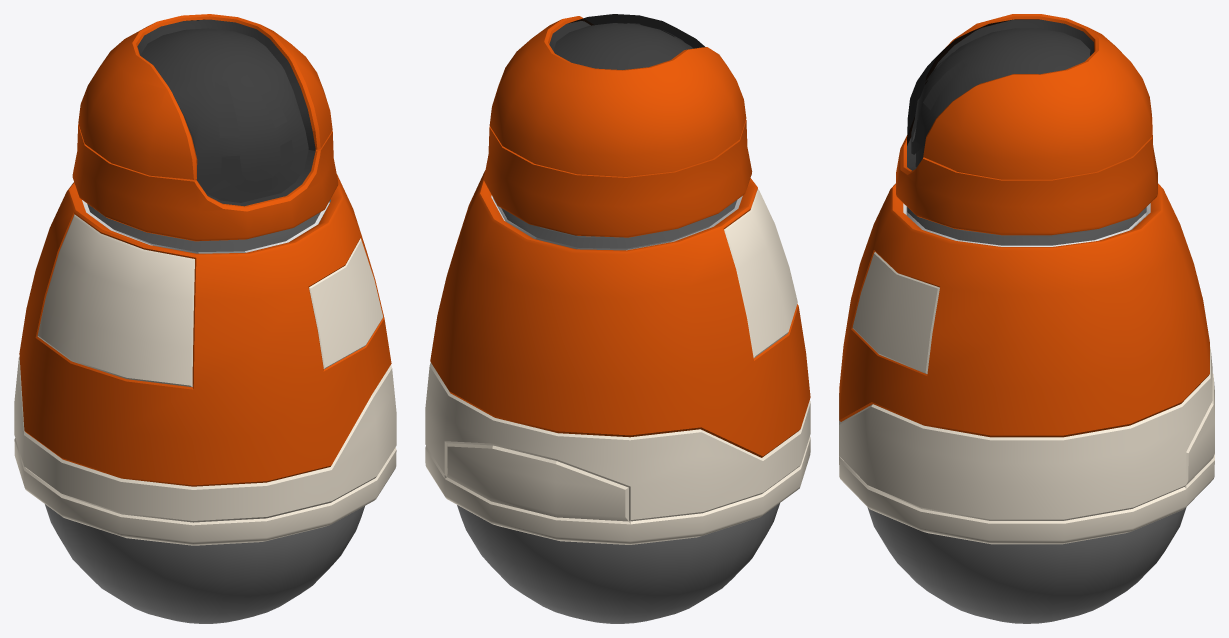
Rendered from townsperson1.fbx.
3 renders of one model, left to right at view 1: azimuth 30°, elevation 25°; view 2: azimuth 150°, elevation 25°; view 3: azimuth 270°, elevation 25°, orthographic.
Visible parts, largest first — view 1: body, head, headScreen, rollerSphere; view 2: body, head, rollerSphere, headScreen; view 3: body, head, rollerSphere, headScreen.
Boxes of the visible parts, <box> form: body: <box>14,174,396,545</box>; head: <box>72,14,338,241</box>; headScreen: <box>138,20,315,205</box>; rollerSphere: <box>45,504,364,623</box>; body: <box>425,170,810,544</box>; head: <box>484,14,752,237</box>; rollerSphere: <box>457,503,779,623</box>; headScreen: <box>550,21,692,69</box>; body: <box>839,183,1214,544</box>; head: <box>896,14,1157,235</box>; rollerSphere: <box>867,507,1186,623</box>; headScreen: <box>907,20,1093,170</box>.
Bounding box in the file's own units: 107 × 181 × 107.
